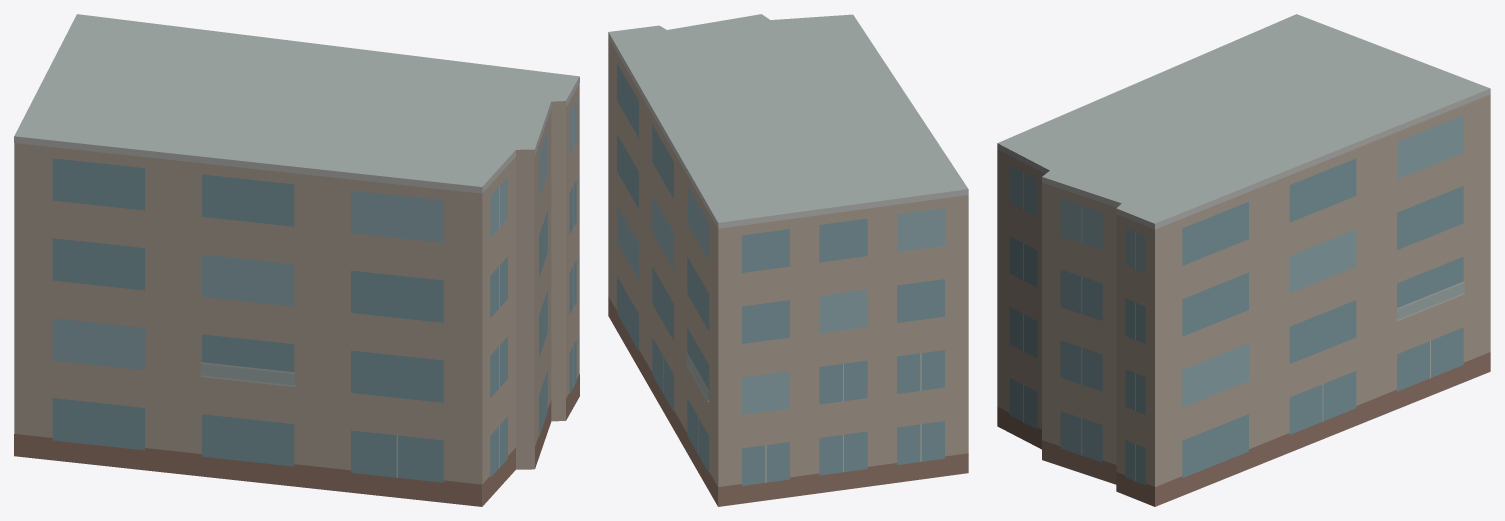
The model's file is survey-upis-33017386.glb.
The picture shows the model from 3 angles, left to right: view 1: azimuth 30°, elevation 25°; view 2: azimuth 150°, elevation 25°; view 3: azimuth 270°, elevation 25°; orthographic projection. The views are drawn at different scales.
Parts seen in each view (by area): view 1: survey-upis-33017386.tmp; view 2: survey-upis-33017386.tmp; view 3: survey-upis-33017386.tmp.
Part boxes in pixels (x1=…): survey-upis-33017386.tmp: x1=14, y1=14, x2=579, y2=506; survey-upis-33017386.tmp: x1=608, y1=14, x2=968, y2=506; survey-upis-33017386.tmp: x1=997, y1=14, x2=1490, y2=506.
Size of the model in its own units: 18.76 by 11.8 by 18.64.
